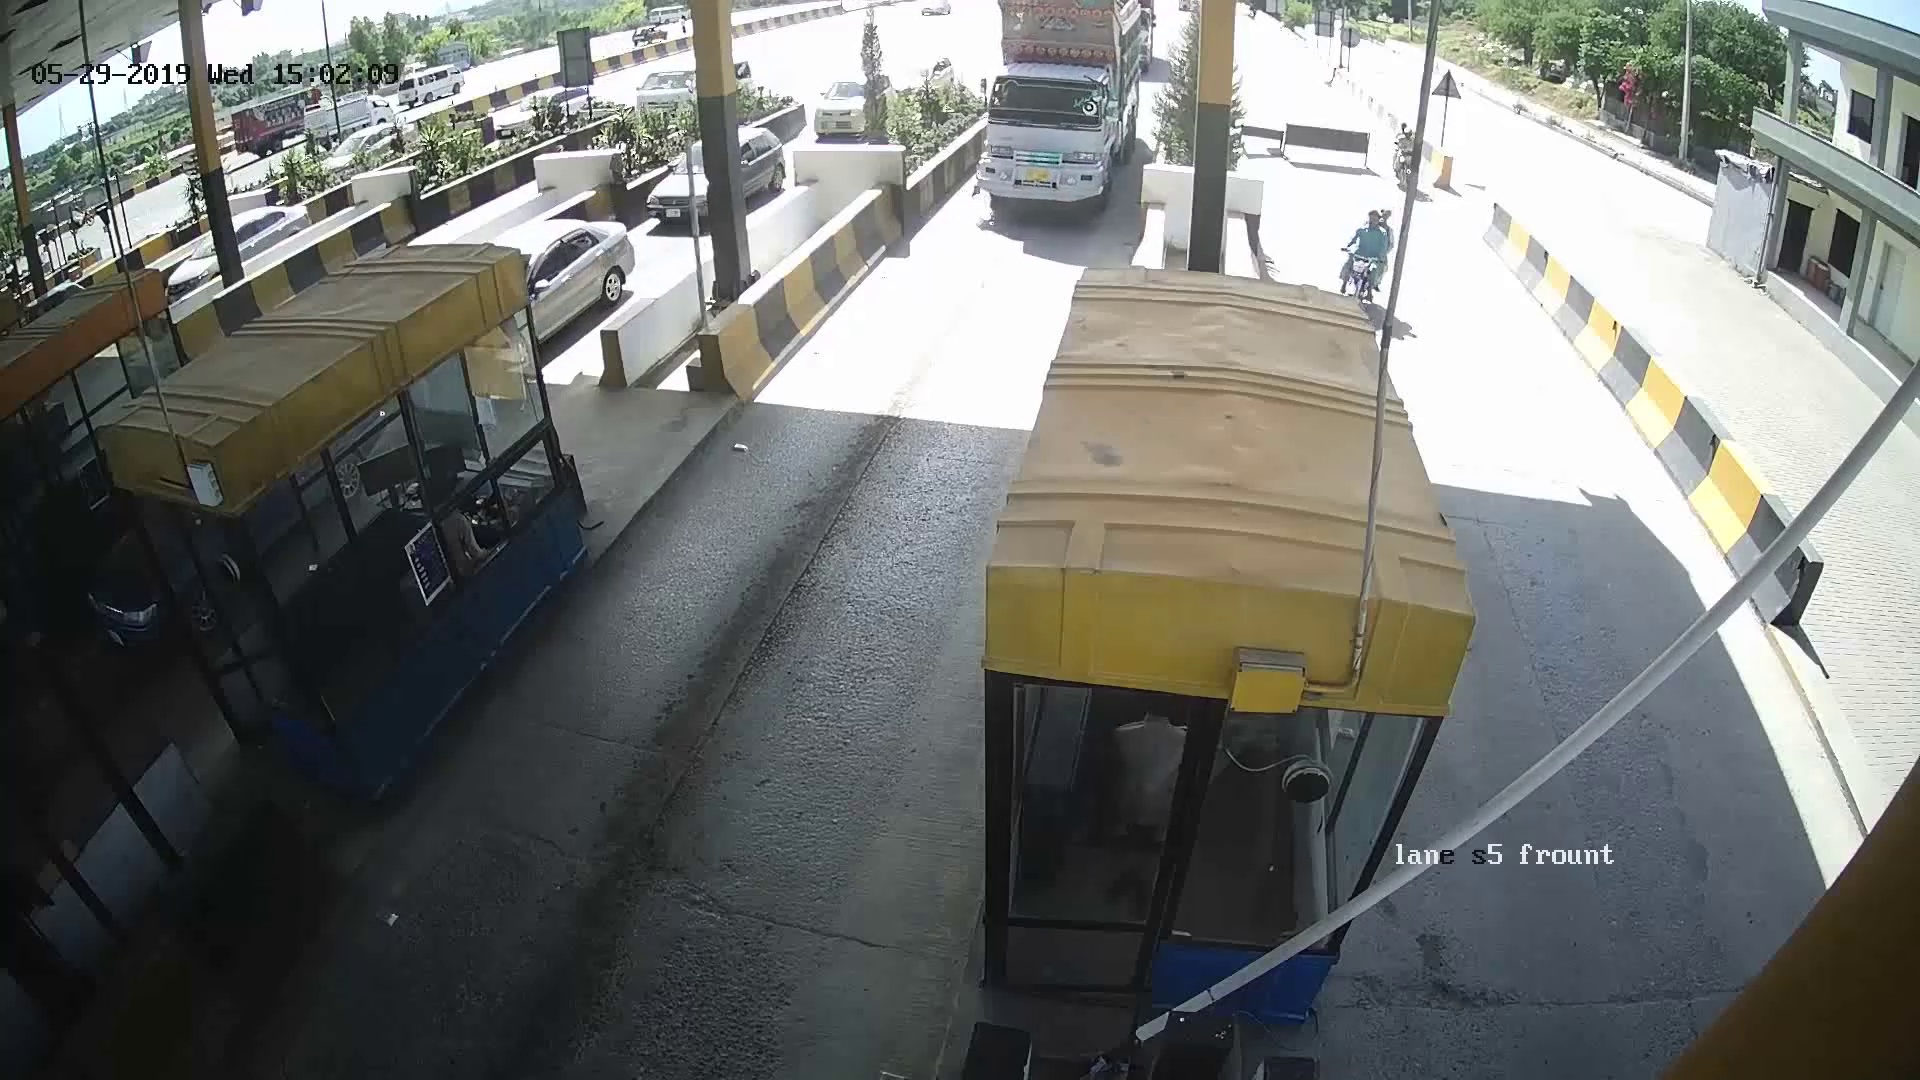truck: (977, 9, 1135, 216)
